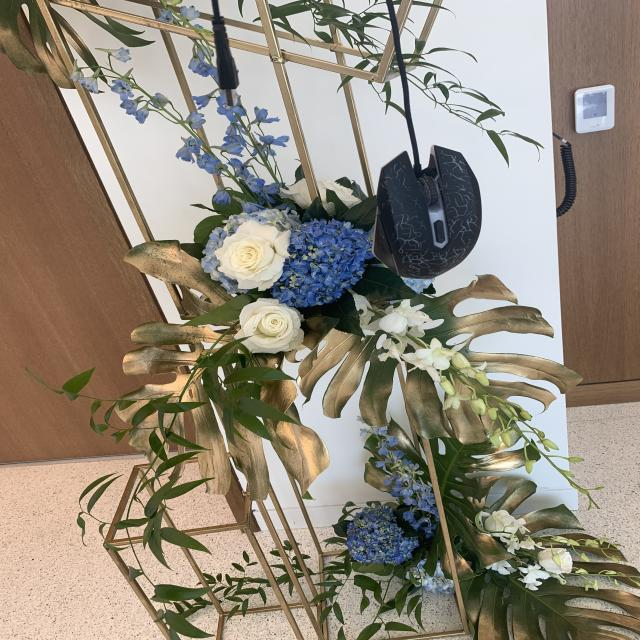Mouse: (363, 141, 491, 288)
